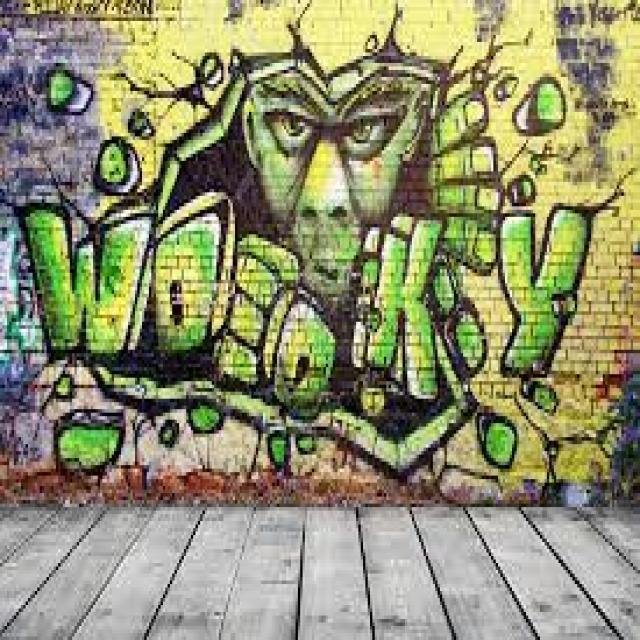-: (26, 7, 593, 474)
